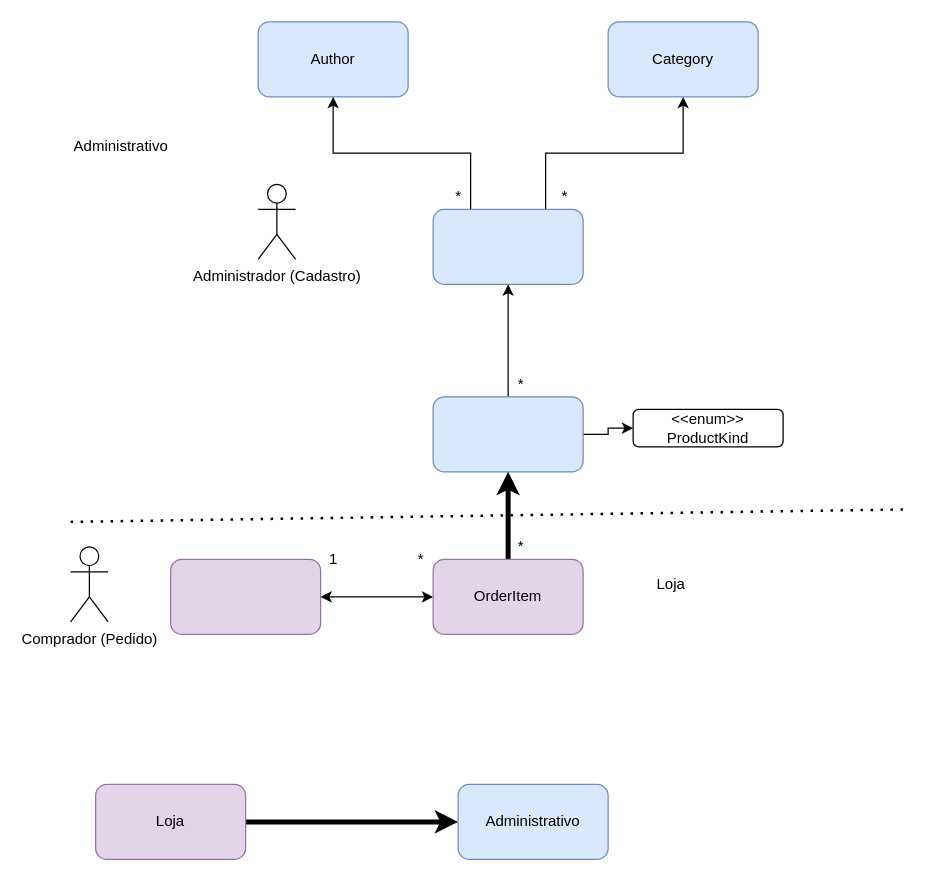
Image size: 933x881. Some labels were removed from this diagram. The shapes that lost their labels are listed below. From the top down, each one's centre as x and y in pixels, then its label:
At point (507, 246): "Book".
At point (507, 434): "Product".
At point (245, 596): "CheckoutOrder".
